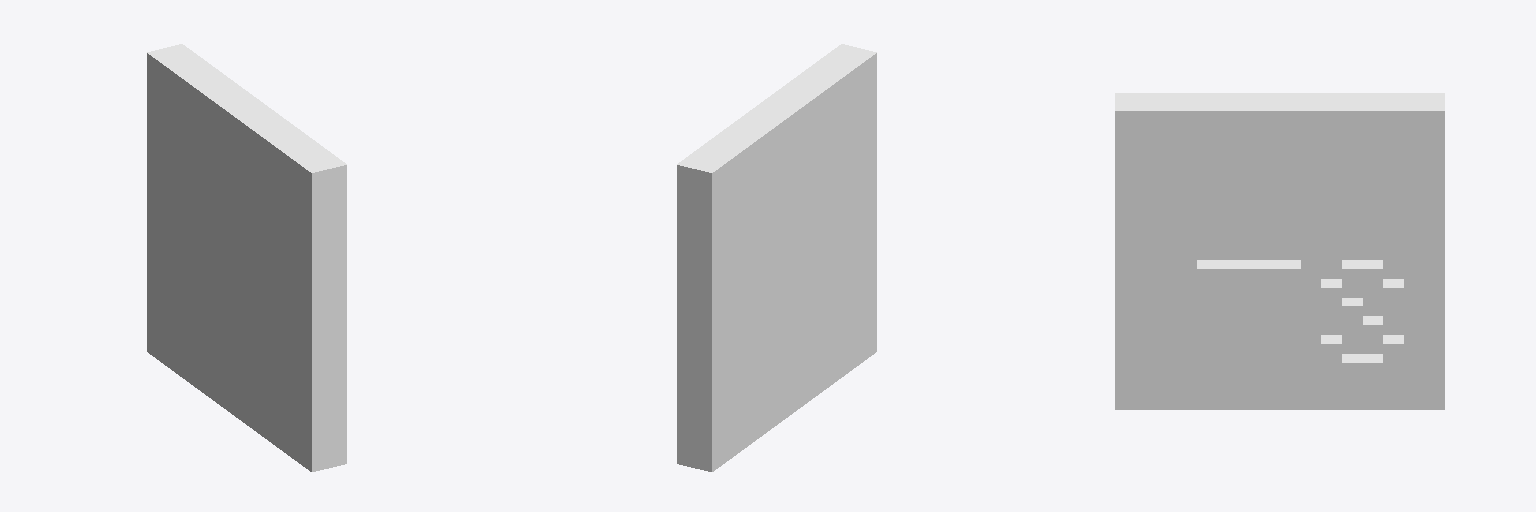
File: Skill-log.vox-5.obj
3 views of the same model, side by side, from view 1: azimuth 30°, elevation 25°; view 2: azimuth 150°, elevation 25°; view 3: azimuth 270°, elevation 25° (orthographic).
Visible parts, largest first — view 1: object 1; view 2: object 1; view 3: object 1.
Part boxes in pixels (x1,y1,x2,y2): object 1: (147, 44, 346, 471); object 1: (677, 44, 876, 471); object 1: (1115, 93, 1444, 409).
Bounding box in the file's own units: 0.3 × 1.6 × 1.6.